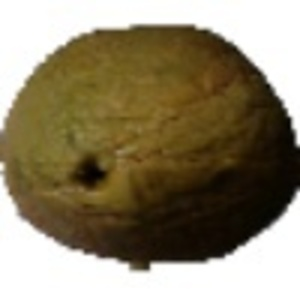mamão: (5, 22, 292, 263)
